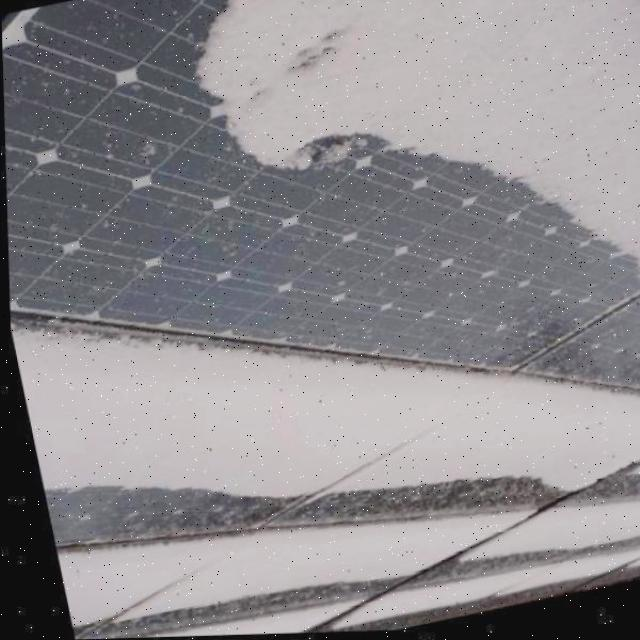Anomaly Solar Panel: (0, 0, 640, 640)
Snow: (91, 0, 640, 312), (7, 310, 640, 500), (52, 504, 541, 625), (325, 545, 640, 631), (101, 589, 383, 639), (447, 498, 640, 567), (615, 425, 640, 503), (622, 548, 640, 571)
